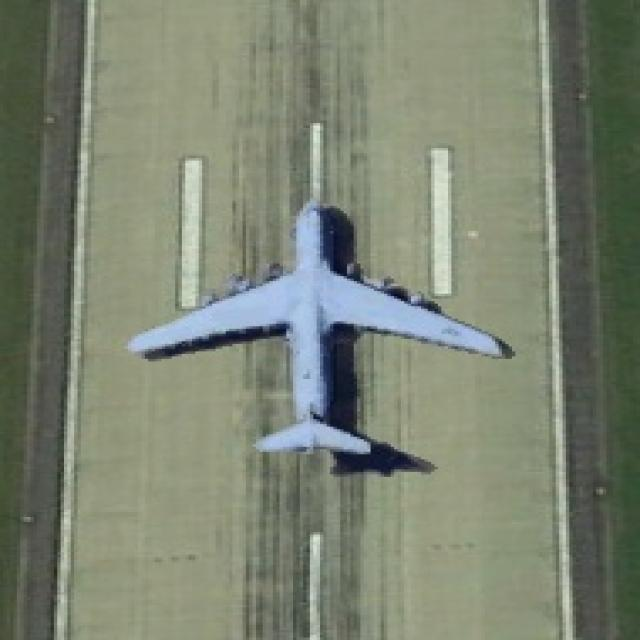C-5_TopDown: (130, 204, 524, 476)
